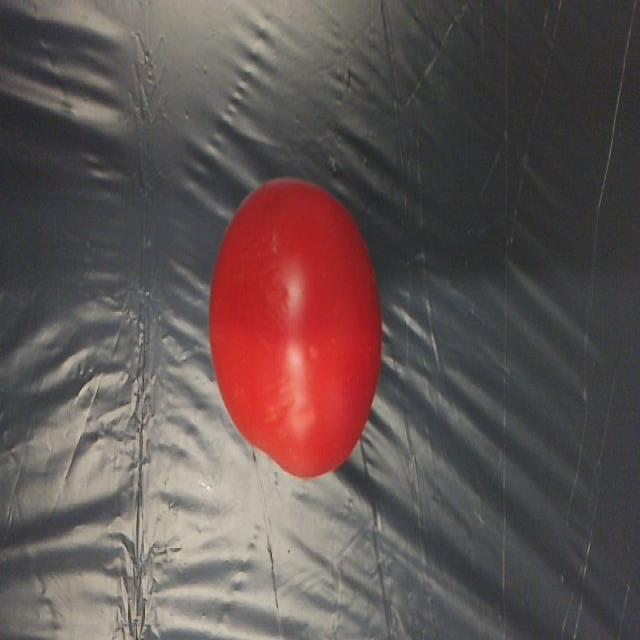kirmizi: (200, 162, 387, 482)
